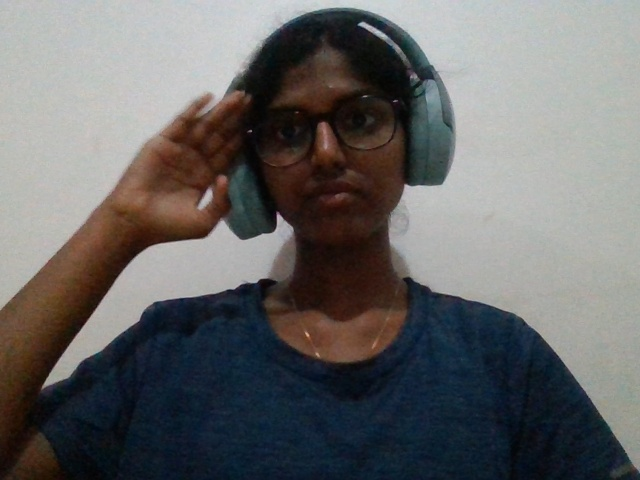Hello: (80, 59, 274, 301)
